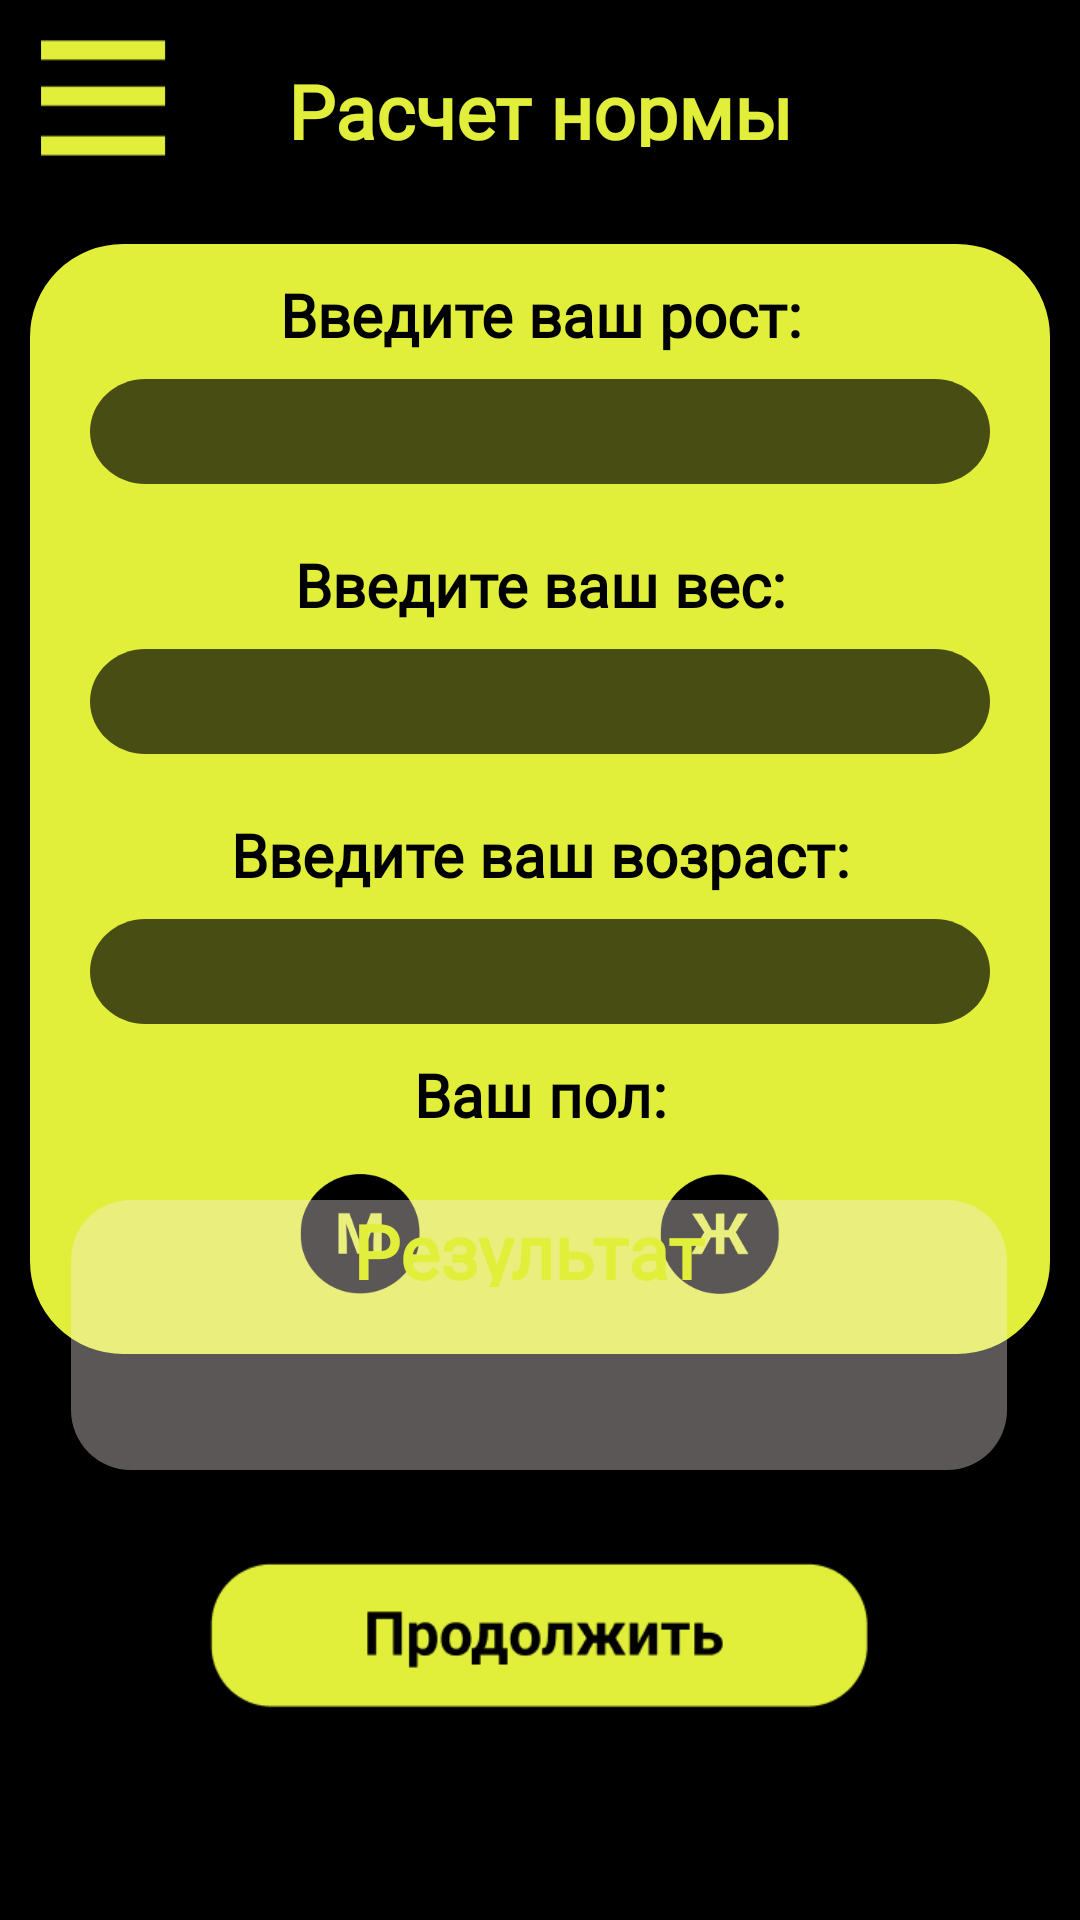

Point at icon controls on the screen. Image size 1080 × 1920, points as (x,y).
menu: (103,98)
